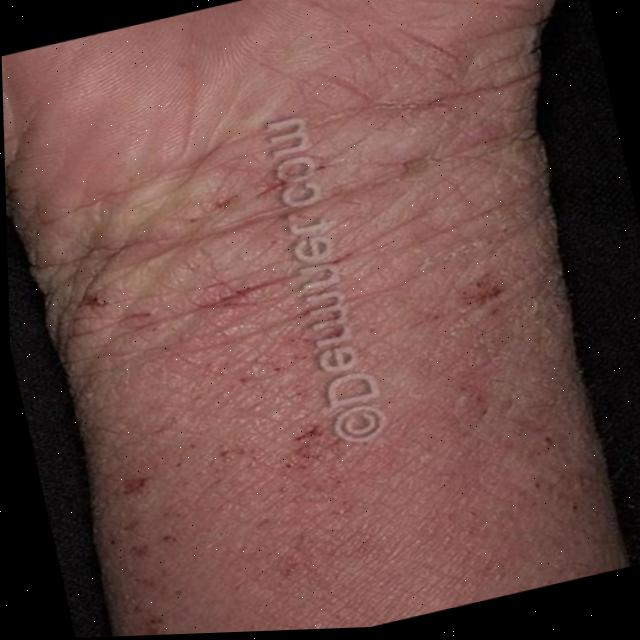Eczema: (2, 41, 568, 587)
